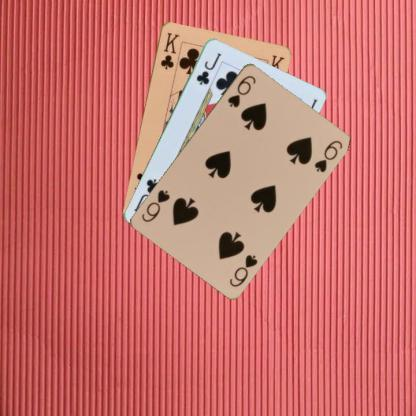6s: (226, 252, 259, 288), (225, 72, 257, 109)
Jc: (193, 50, 222, 86)
Kc: (158, 30, 181, 70)
